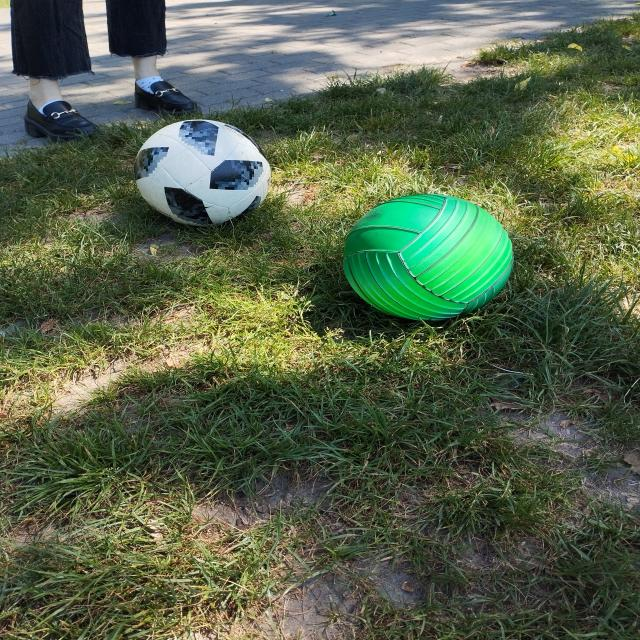nozna: (134, 119, 271, 226)
zielona: (343, 194, 515, 321)
